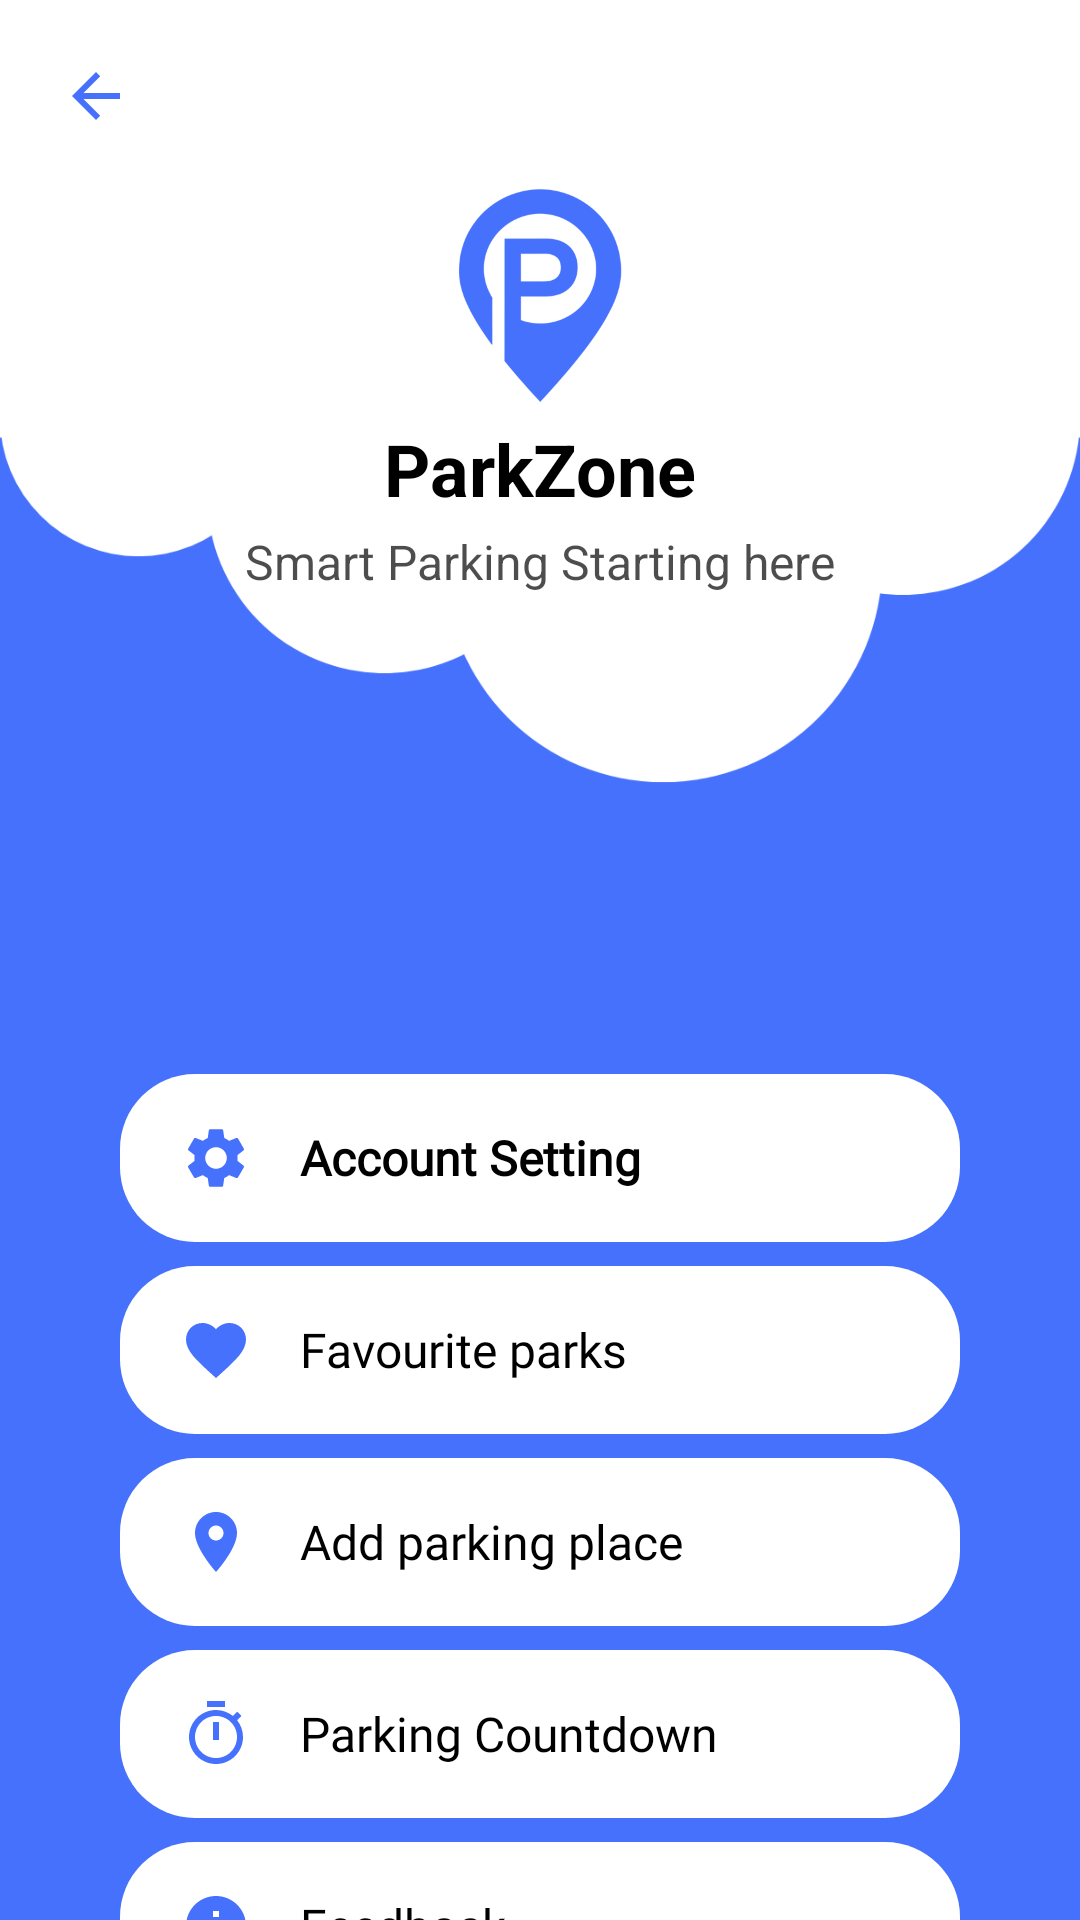

Screen size 1080px x 1920px. Icon name, then its center in pixels as (x=x, y=y):
back: (x=96, y=96)
location: (x=216, y=1542)
timer: (x=216, y=1732)
